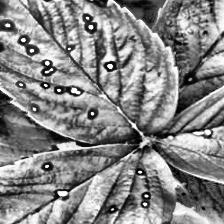Leaf Spot: (0, 0, 179, 147), (0, 143, 176, 224), (150, 55, 224, 191), (150, 0, 224, 115), (168, 162, 224, 224)
